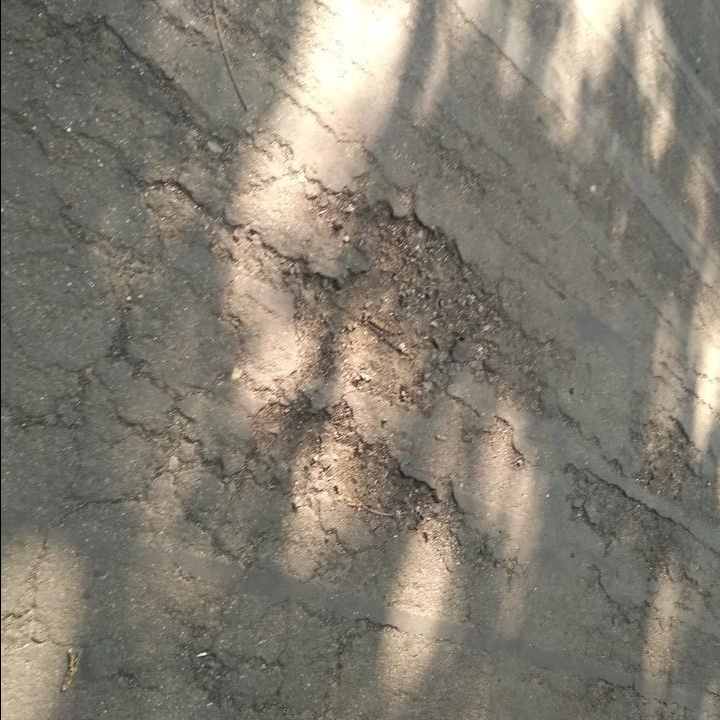pothole: (284, 177, 492, 405), (251, 391, 444, 535), (626, 414, 704, 497)
